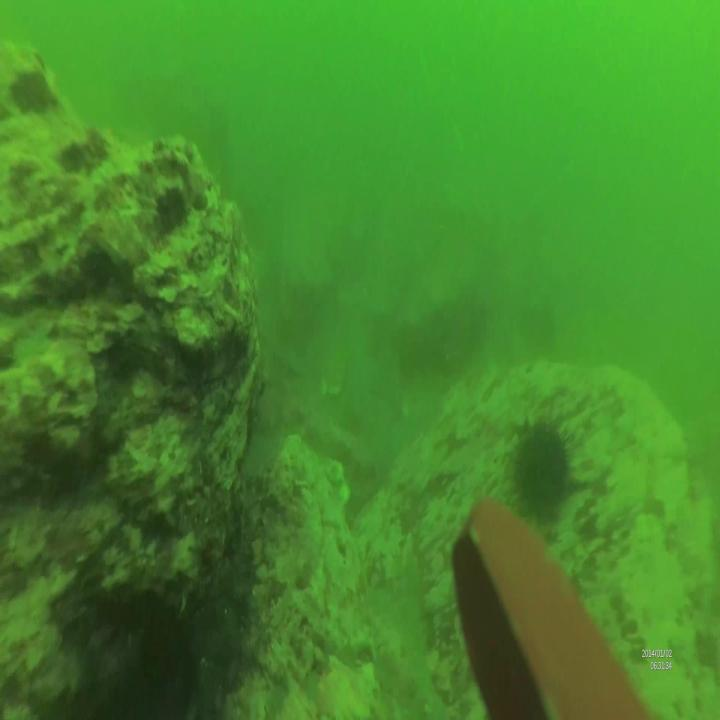echinus: (501, 405, 577, 523)
